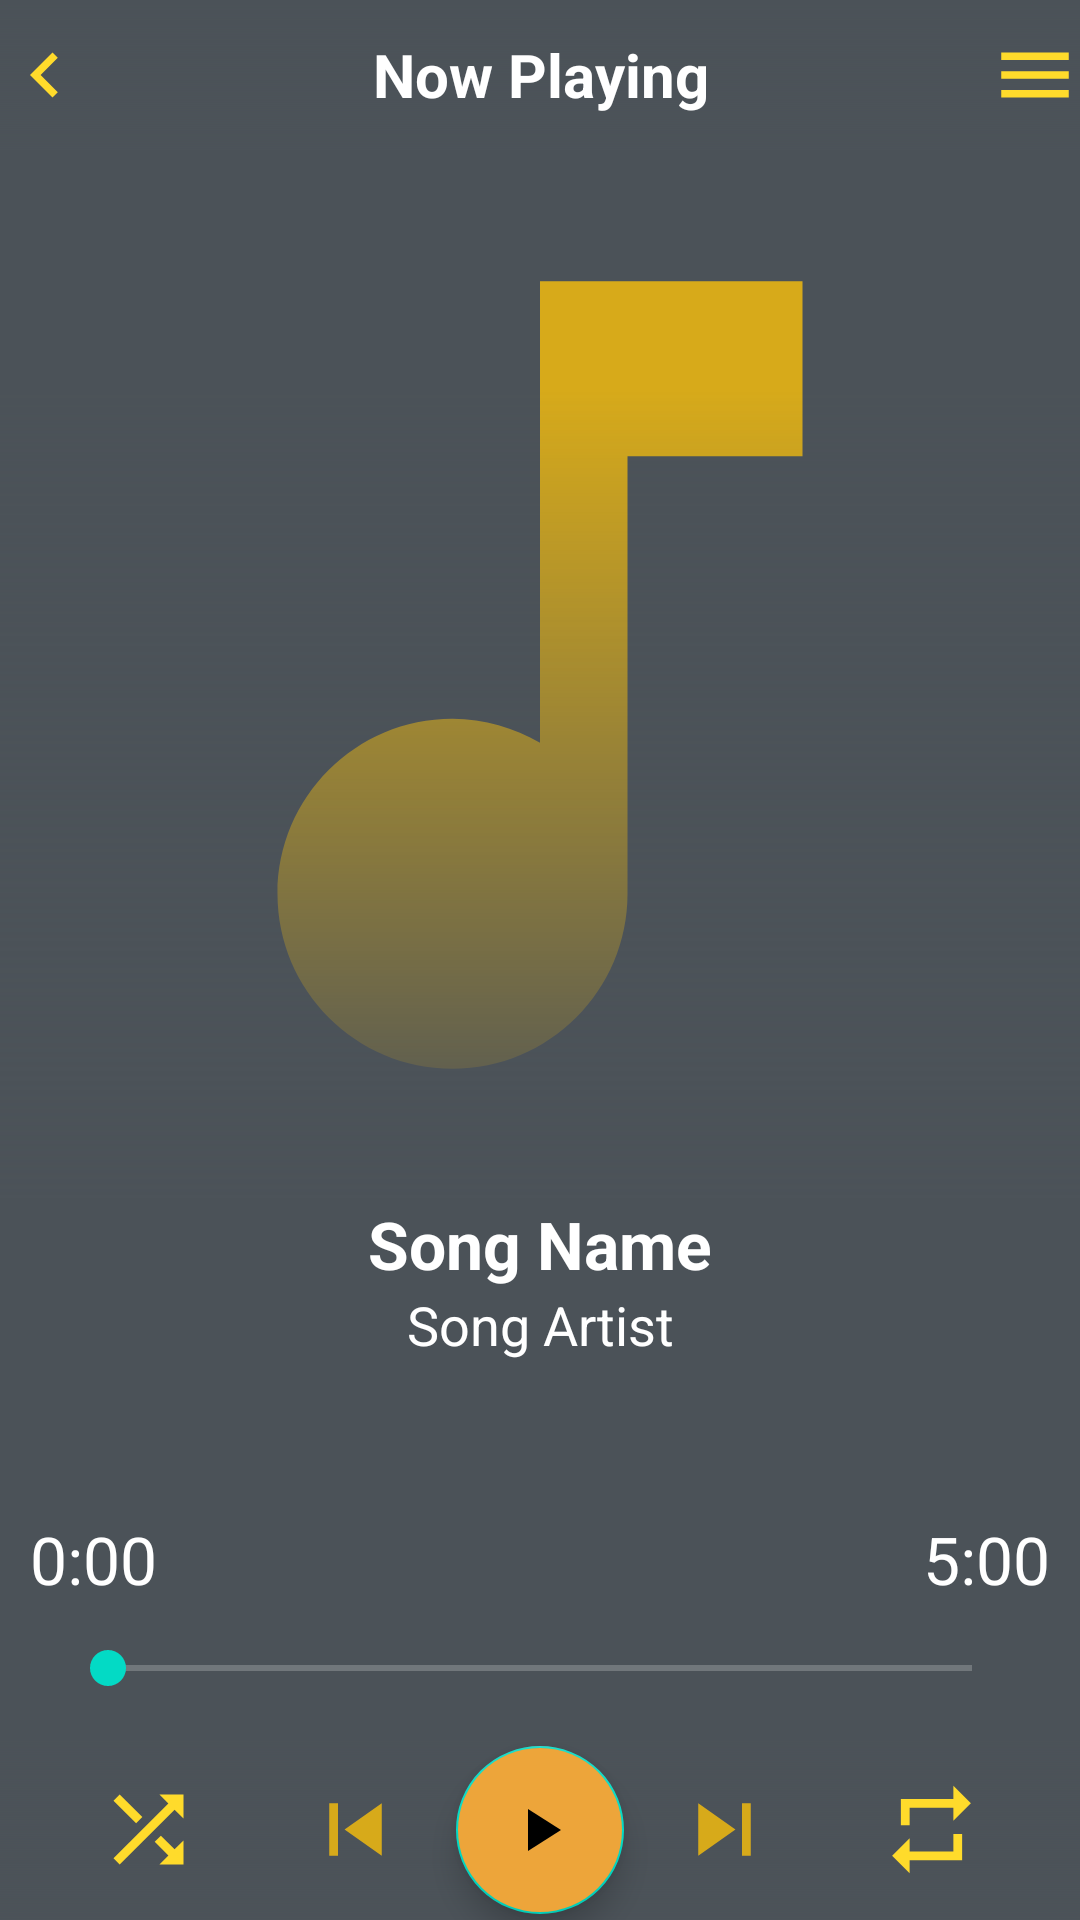

Locate icon controls on the screen. Image size 1080w x 1920h, boxes as (x1, y1, x2, y2).
chevron left: (30, 52, 58, 98)
menu: (1001, 52, 1069, 98)
play: (456, 1746, 624, 1914)
repeat off: (892, 1786, 971, 1873)
shuffle off: (113, 1794, 184, 1865)
skip next: (698, 1803, 751, 1856)
skip previou: (329, 1803, 382, 1856)
